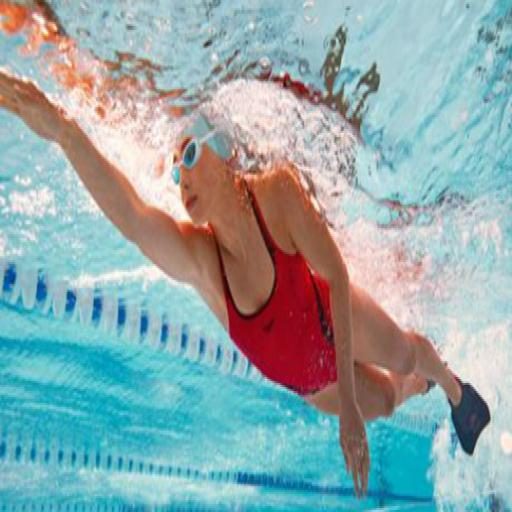swimming: (0, 54, 492, 502)
